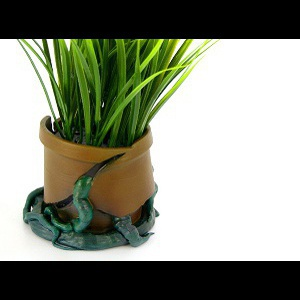flowerpot: (36, 114, 155, 246)
